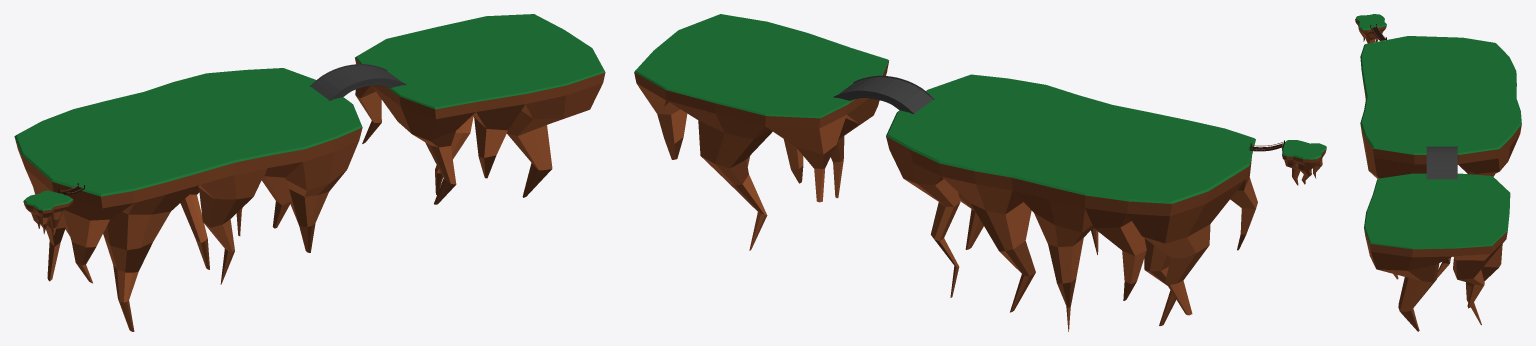
File: Level2_Islands01_FBX.fbx
3 renders of one model, left to right at view 1: azimuth 30°, elevation 25°; view 2: azimuth 150°, elevation 25°; view 3: azimuth 270°, elevation 25°, orthographic. The views are drawn at different scales.
Visible parts, largest first — view 1: Island_Town01, Island_Town02, StoneBridge, Island_003; view 2: Island_Town01, Island_Town02, StoneBridge, Island_003; view 3: Island_Town01, Island_Town02, StoneBridge, Island_003.
Boxes of the visible parts, box(x1,y1,x2,y2) form: Island_Town01: box(14, 68, 362, 331); Island_Town02: box(355, 14, 605, 204); StoneBridge: box(309, 64, 406, 100); Island_003: box(23, 190, 73, 235); Island_Town01: box(886, 74, 1257, 331); Island_Town02: box(634, 14, 889, 250); StoneBridge: box(833, 75, 934, 114); Island_003: box(1282, 140, 1326, 185); Island_Town01: box(1360, 36, 1521, 178); Island_Town02: box(1364, 173, 1510, 331); StoneBridge: box(1426, 146, 1457, 179); Island_003: box(1355, 14, 1386, 43).
Size of the model in its own units: 34161 by 10212 by 10505.
